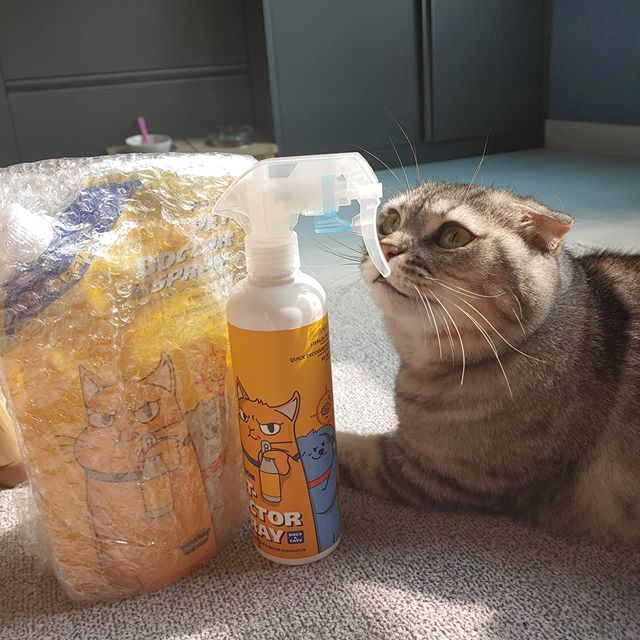cat: (362, 172, 573, 383)
